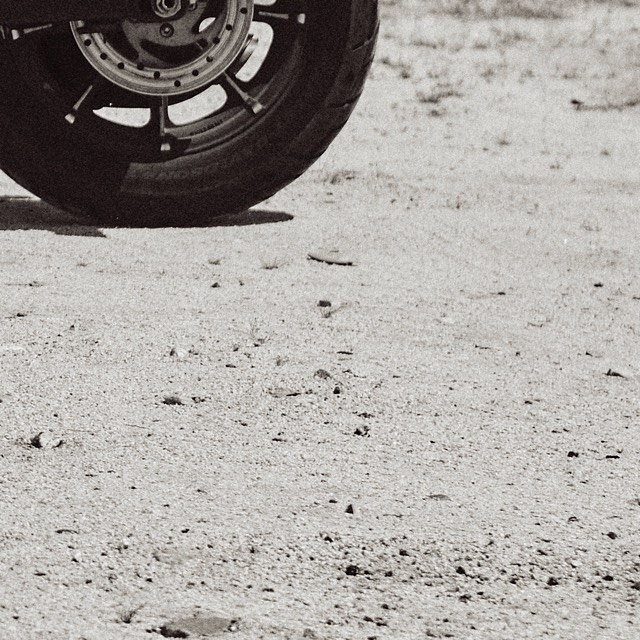motorcycle: (1, 1, 389, 266)
